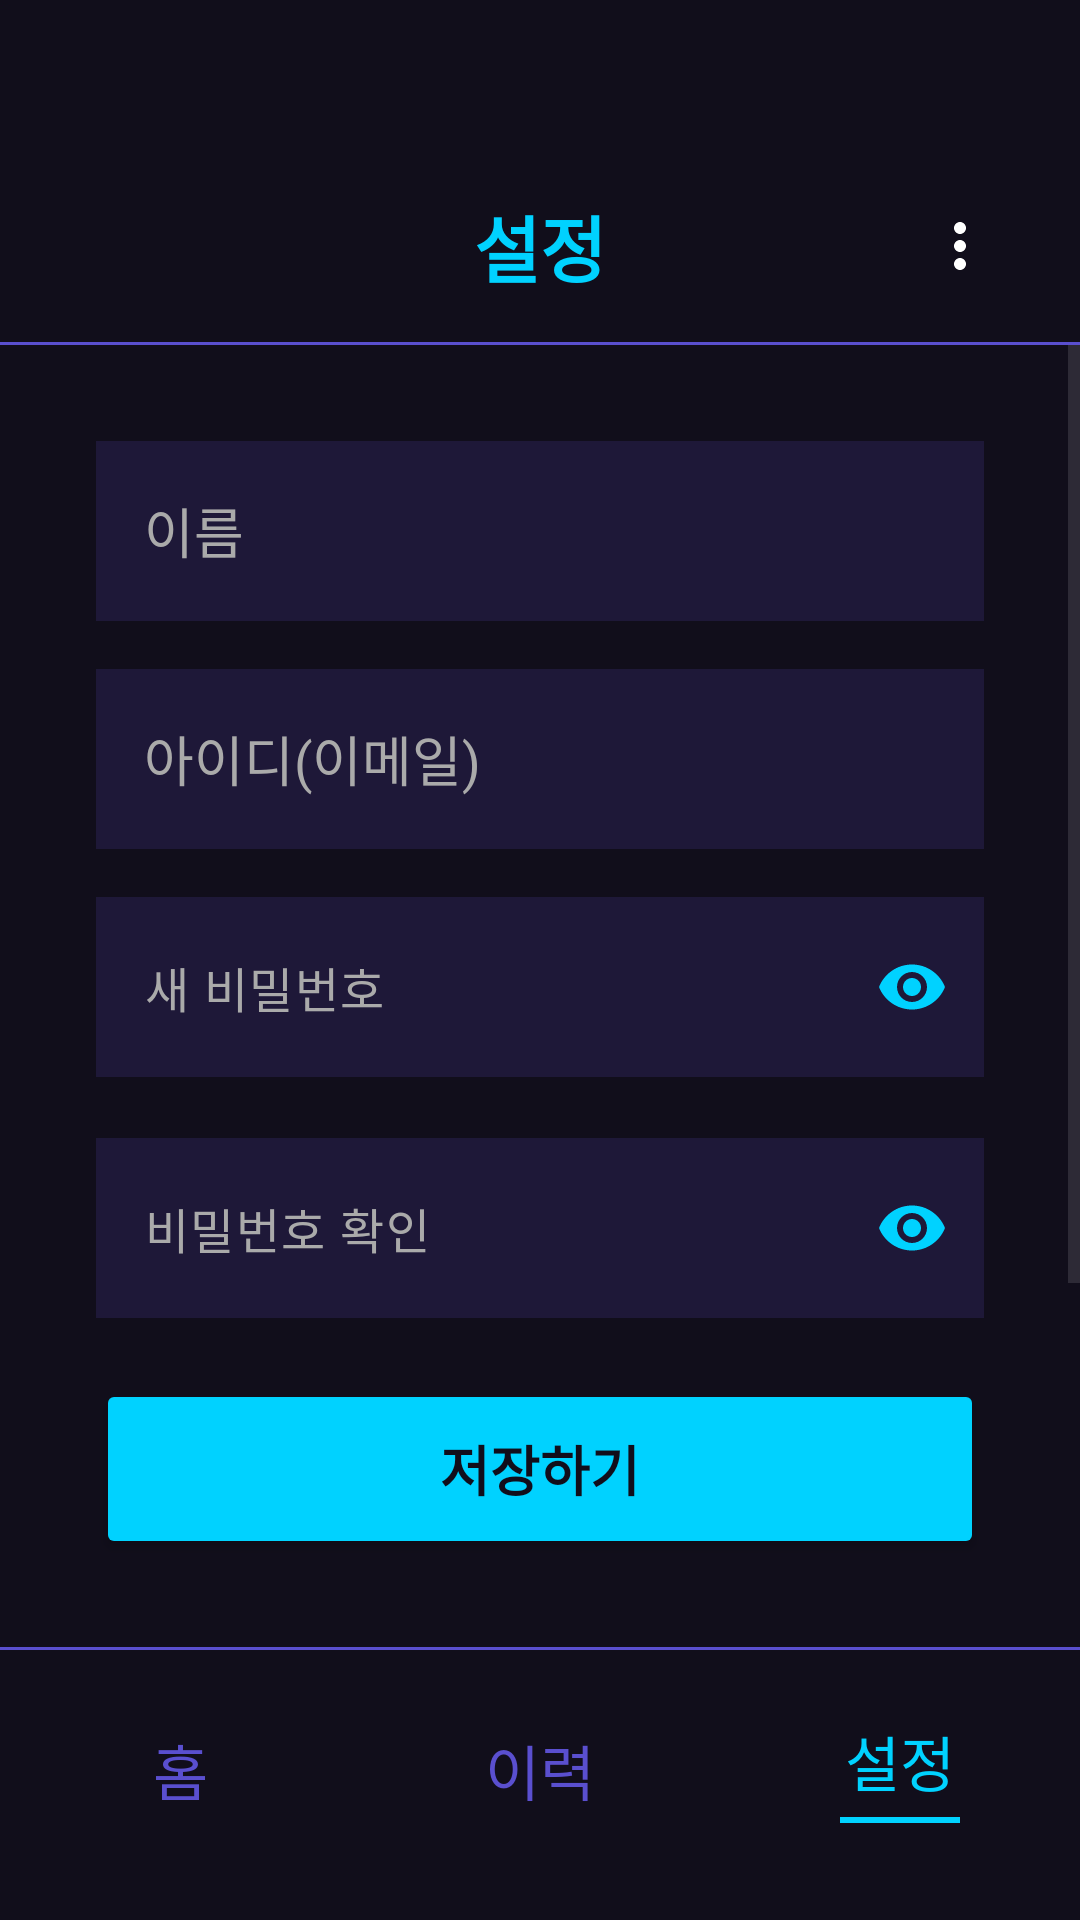

Screen size 1080*1920. Icon name, then its center in pixels as (x,y):
more vert: (960,246)
